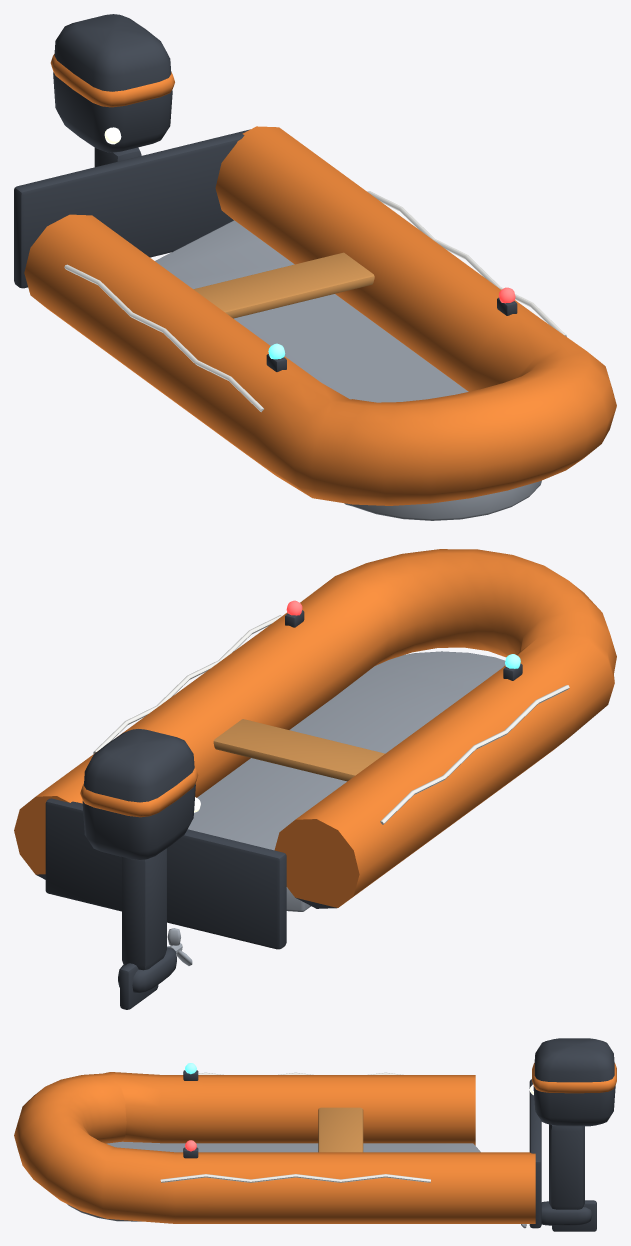
File: bote_inflavel.glb
3 renders of one model, top to bottom at view 1: azimuth 30°, elevation 25°; view 2: azimuth 150°, elevation 25°; view 3: azimuth 270°, elevation 25°, orthographic. The views are drawn at different scales.
Visible parts, largest first — view 1: bote_inflavel; view 2: bote_inflavel; view 3: bote_inflavel.
Part boxes in pixels (x1,y1,x2,y2): bote_inflavel: (14,14,616,520); bote_inflavel: (14,549,616,1009); bote_inflavel: (14,1038,616,1231).
Size of the model in its own units: 1.7 by 1.37 by 4.02.
Materials: 4 (1 with a texture image).
